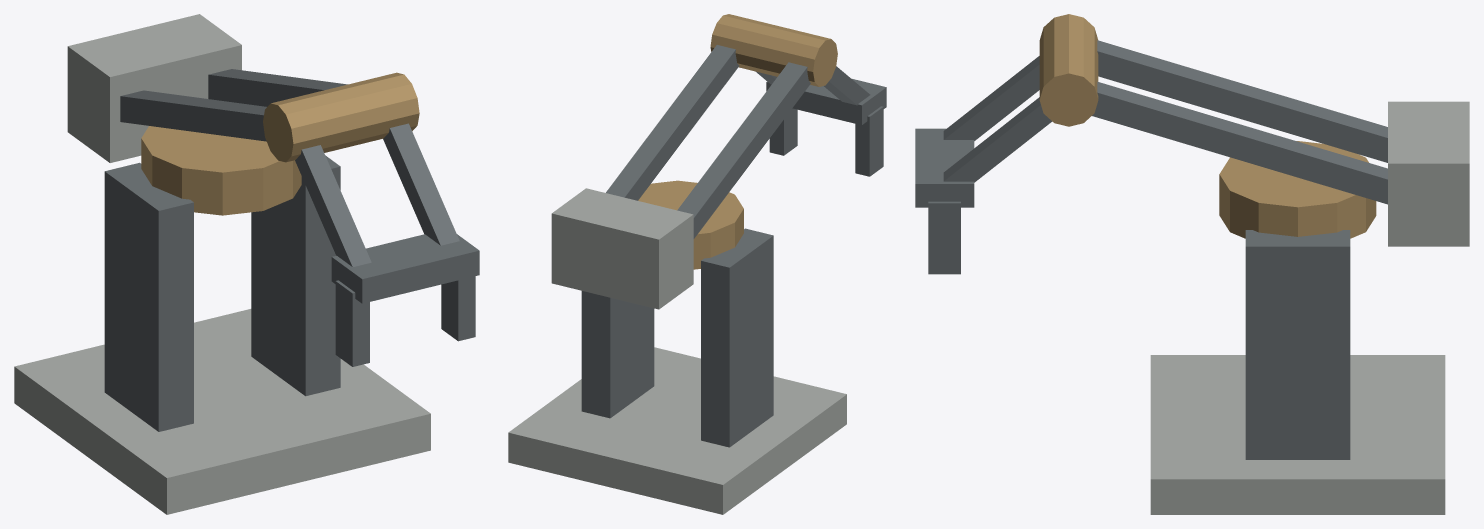
The model's file is vf_iron_feeder.glb.
The picture shows the model from 3 angles, left to right: view 1: azimuth 30°, elevation 25°; view 2: azimuth 150°, elevation 25°; view 3: azimuth 270°, elevation 25°; orthographic projection. The views are drawn at different scales.
Visible parts, largest first — view 1: Static_Stone, Static_Iron, Arm_Yaw_Iron, Arm_Yaw_Stone, Static_Bronze, Arm_Yaw_Bronze; view 2: Static_Stone, Static_Iron, Arm_Yaw_Iron, Arm_Yaw_Stone, Arm_Yaw_Bronze, Static_Bronze; view 3: Static_Stone, Arm_Yaw_Iron, Static_Iron, Arm_Yaw_Stone, Static_Bronze, Arm_Yaw_Bronze.
Boxes of the visible parts, <box> form: Static_Stone: <box>14,309,430,514</box>; Static_Iron: <box>104,155,340,431</box>; Arm_Yaw_Iron: <box>120,69,479,366</box>; Arm_Yaw_Stone: <box>67,14,241,162</box>; Static_Bronze: <box>141,126,301,215</box>; Arm_Yaw_Bronze: <box>263,72,419,162</box>; Static_Stone: <box>508,347,846,514</box>; Static_Iron: <box>581,228,773,447</box>; Arm_Yaw_Iron: <box>606,45,886,238</box>; Arm_Yaw_Stone: <box>551,188,693,309</box>; Arm_Yaw_Bronze: <box>710,14,837,86</box>; Static_Bronze: <box>638,180,743,269</box>; Static_Stone: <box>1150,355,1445,514</box>; Arm_Yaw_Iron: <box>915,40,1387,274</box>; Static_Iron: <box>1245,230,1350,459</box>; Arm_Yaw_Stone: <box>1388,101,1469,246</box>; Static_Bronze: <box>1219,141,1376,238</box>; Arm_Yaw_Bronze: <box>1039,14,1098,126</box>.
Bounding box in the file's own units: 0.9 × 1.38 × 1.69.
